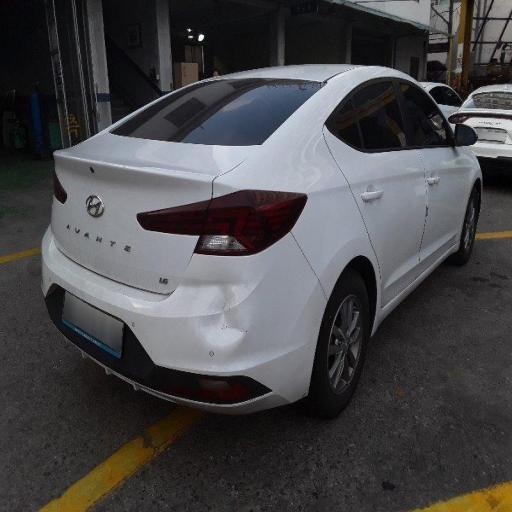dent: (173, 231, 258, 367), (399, 176, 468, 278), (189, 132, 263, 226)
